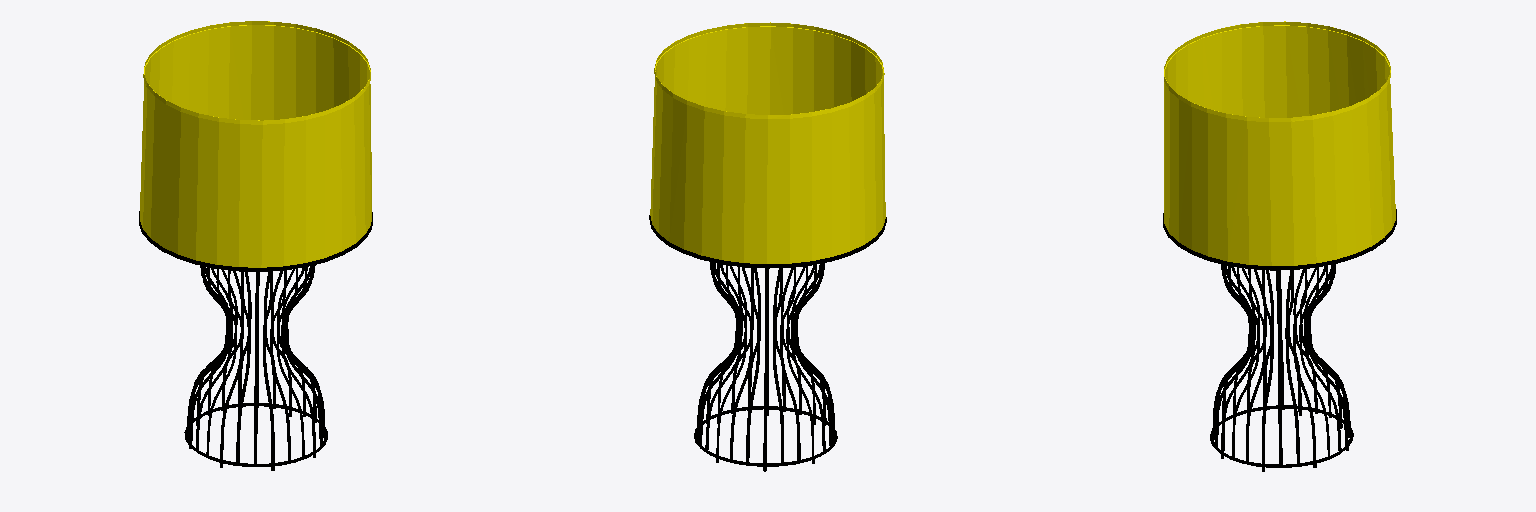
Rendered from light05.obj.
The picture shows the model from 3 angles: view 1: azimuth 30°, elevation 25°; view 2: azimuth 150°, elevation 25°; view 3: azimuth 270°, elevation 25°; orthographic projection.
Parts seen in each view (by area): view 1: Object.1; view 2: Object.1; view 3: Object.1.
Part boxes in pixels (left/top/right/bottom): Object.1: left=139, top=21, right=372, bottom=470; Object.1: left=649, top=22, right=886, bottom=471; Object.1: left=1163, top=21, right=1396, bottom=471.
Size of the model in its own units: 7.45 by 13.1 by 7.41.